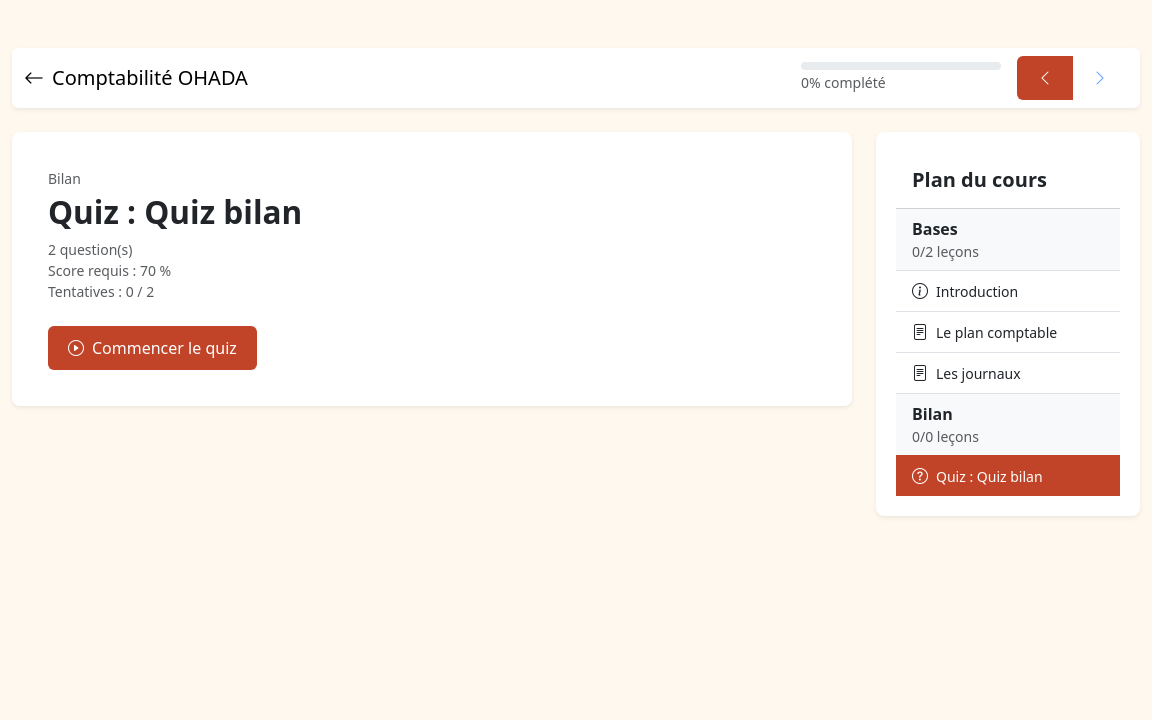
Test: LessonViewer › shows the server error when the quiz is refused
The width and height of the screenshot is (1152, 720).
Click the button "Commencer le quiz" at (152, 348), box top-left (48, 326), bottom-right (257, 370)
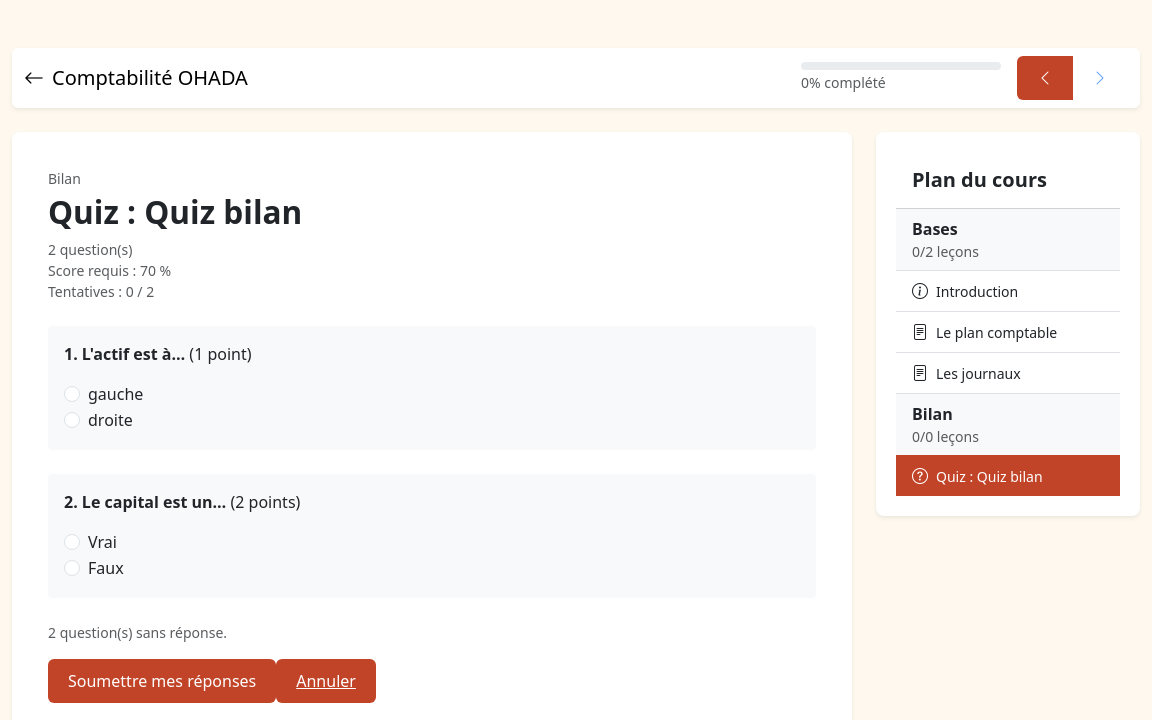
Submit the form, box top-left (48, 326), bottom-right (816, 703)
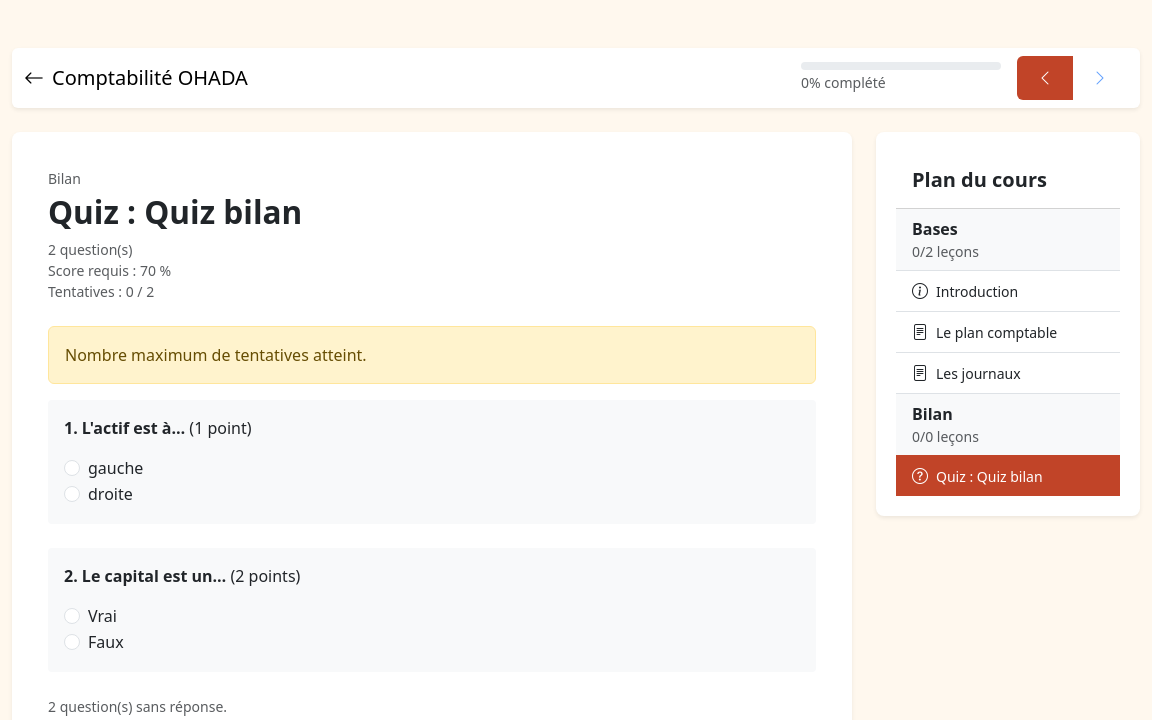
Expected: the text with class "alert-warning" reads "Nombre maximum de tentatives atteint.", top-left (65, 344), bottom-right (367, 366)
